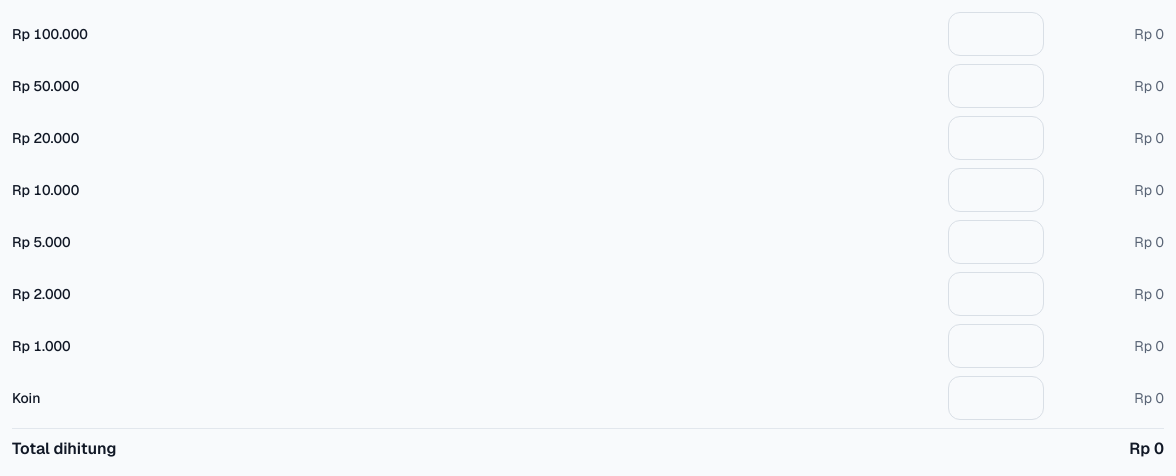
Scenario: DenominationCounter (15 · UX-02) › adds up the notes and coins as the cashier types
Type "2" into the field named "Lembar Rp 100.000" at (996, 34), box top-left (948, 12), bottom-right (1044, 56)
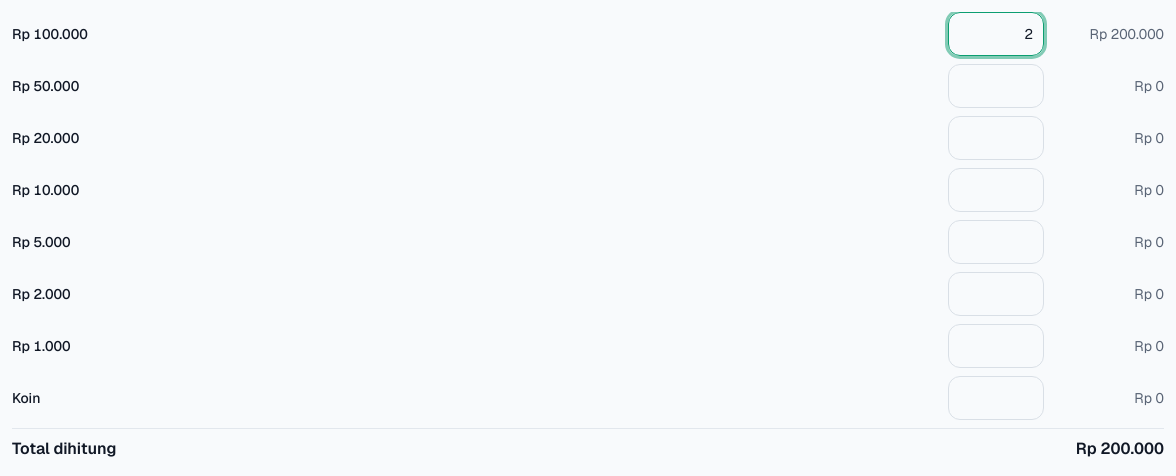
Type "3" into the field named "Lembar Rp 5.000" at (996, 242), box top-left (948, 220), bottom-right (1044, 264)
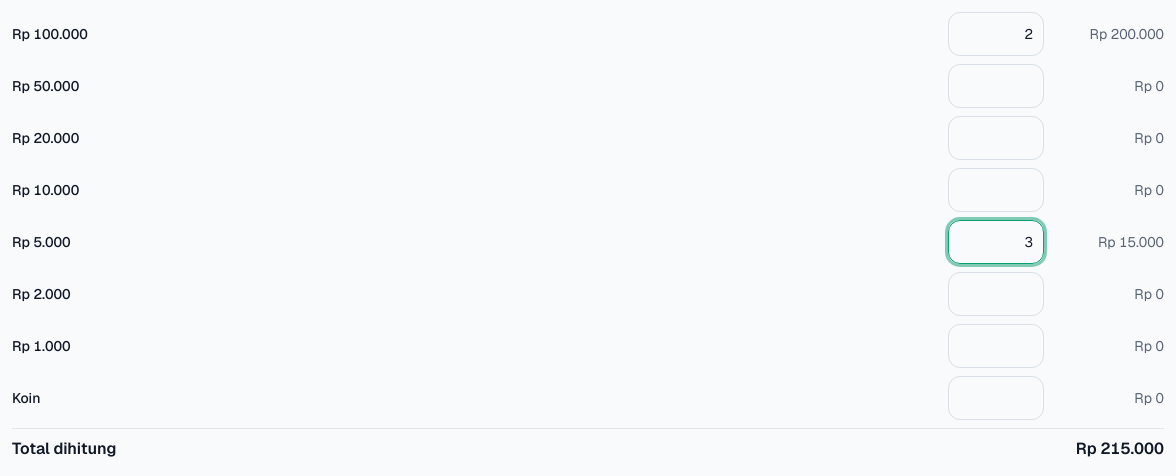
Type "1500" into the field named "Total koin" at (996, 398), box top-left (948, 376), bottom-right (1044, 420)
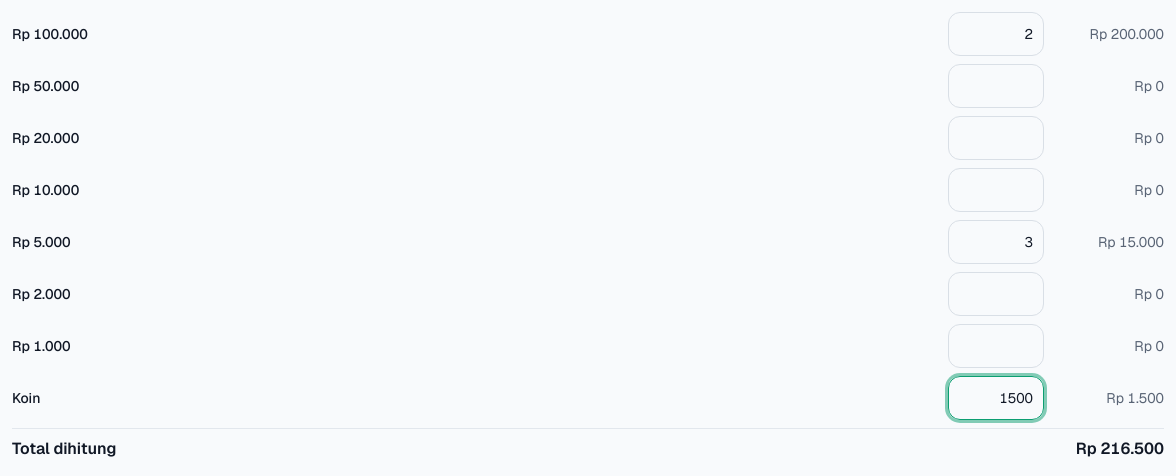
Check: the message "Total dihitung" shows "Rp 216.500", box top-left (1076, 438), bottom-right (1164, 459)
